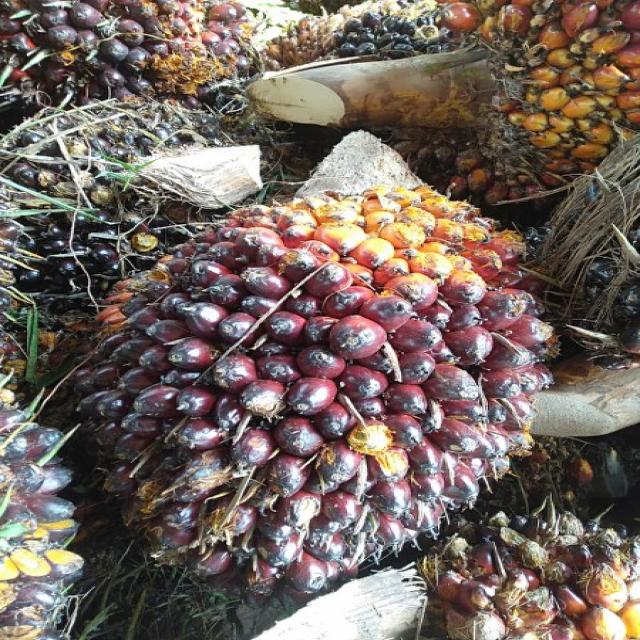fraksi 1: (74, 187, 566, 590)
